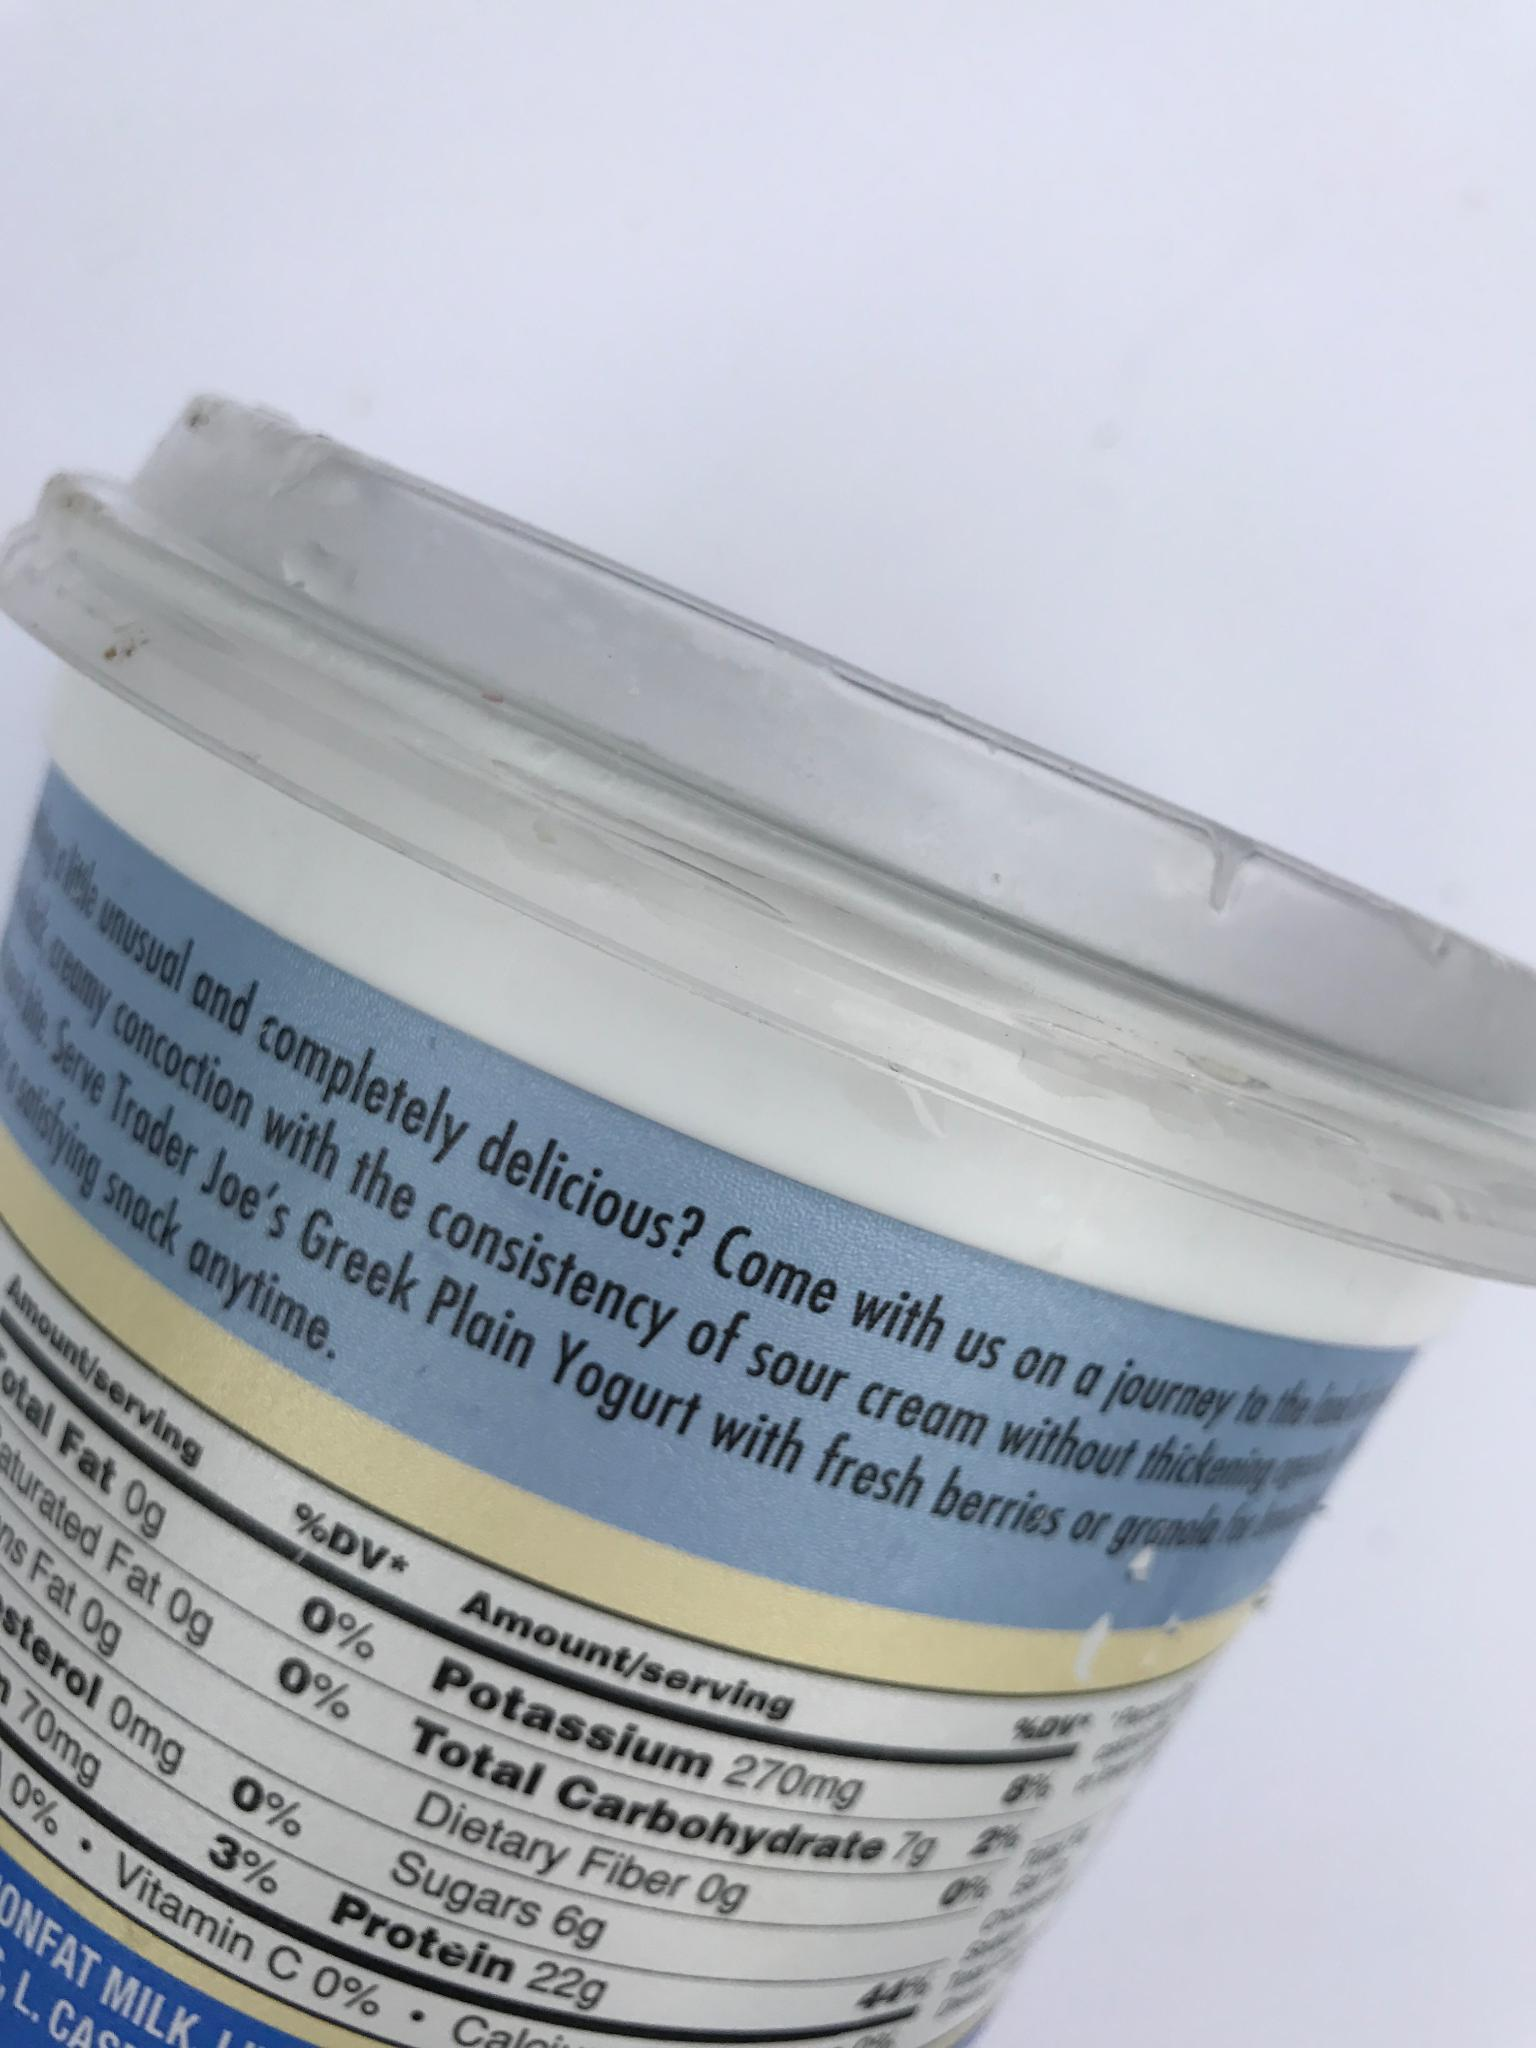Plastic: (0, 377, 1534, 2046)
